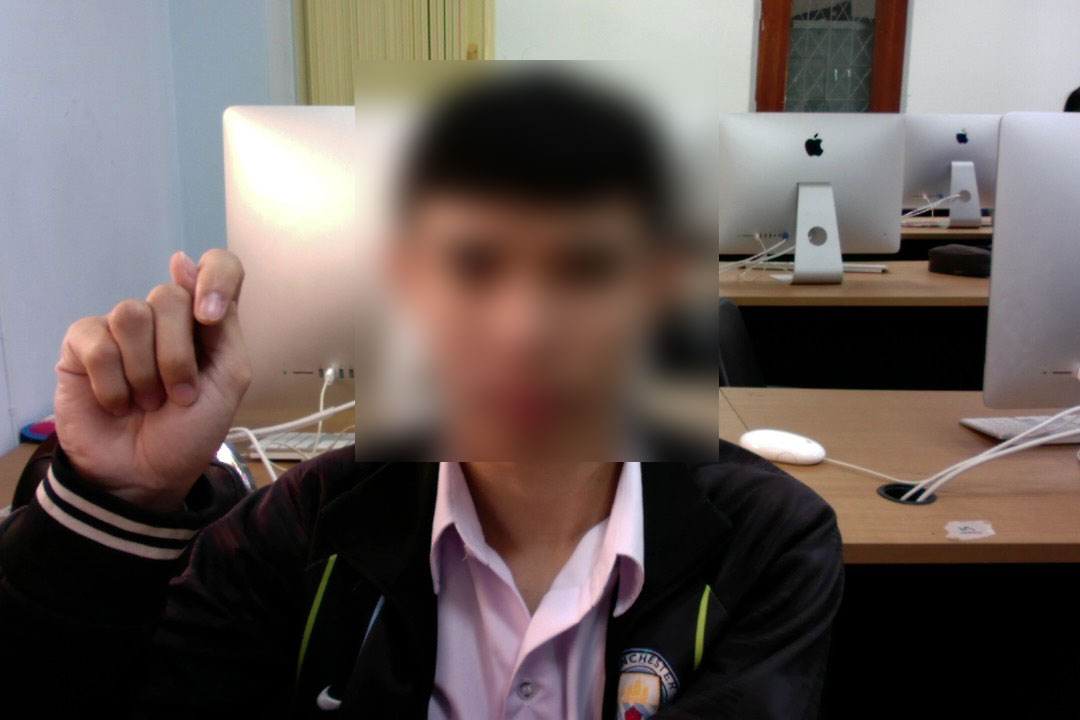tor: (45, 247, 257, 512)
